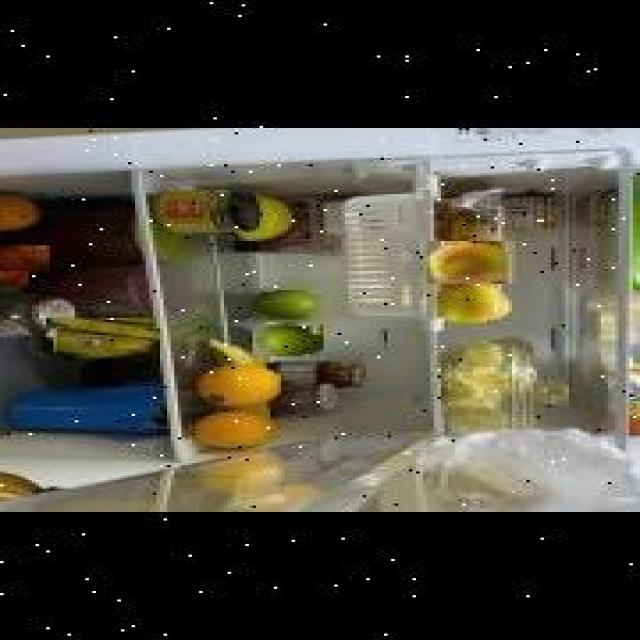apple: (423, 242, 512, 285), (434, 284, 512, 328), (249, 290, 320, 322), (249, 324, 320, 356)
banana: (48, 329, 155, 354), (42, 318, 156, 337)
cucumber: (629, 167, 640, 290)
tomato: (0, 252, 39, 286), (0, 245, 43, 271)
